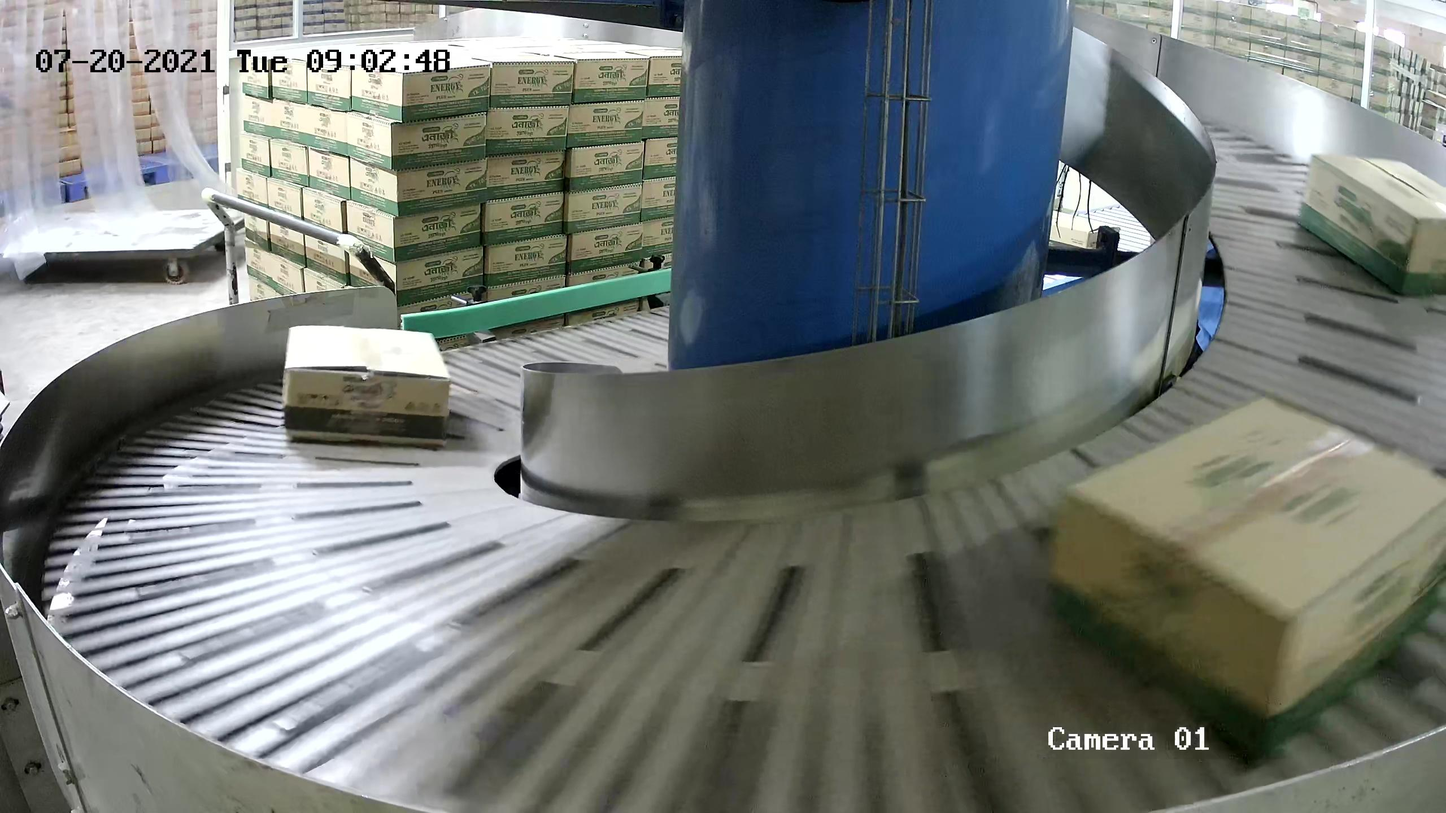Box: (1045, 393, 1446, 772), (1296, 151, 1446, 298), (279, 324, 453, 447)
